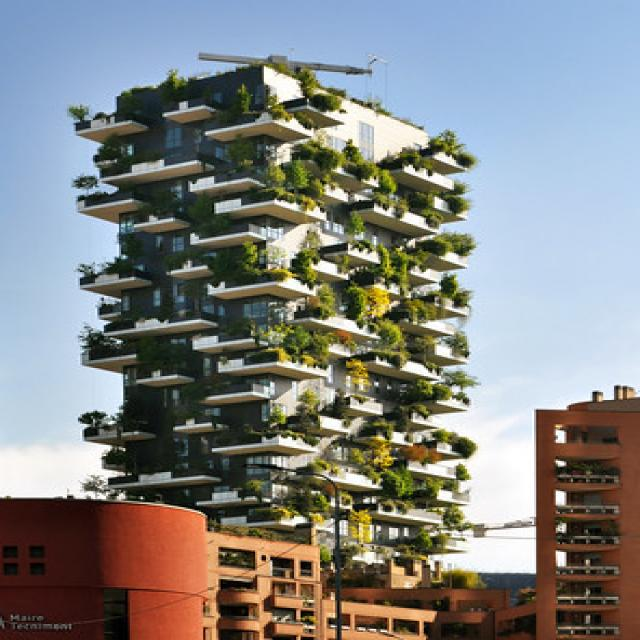Normal_building: (66, 42, 479, 592)
